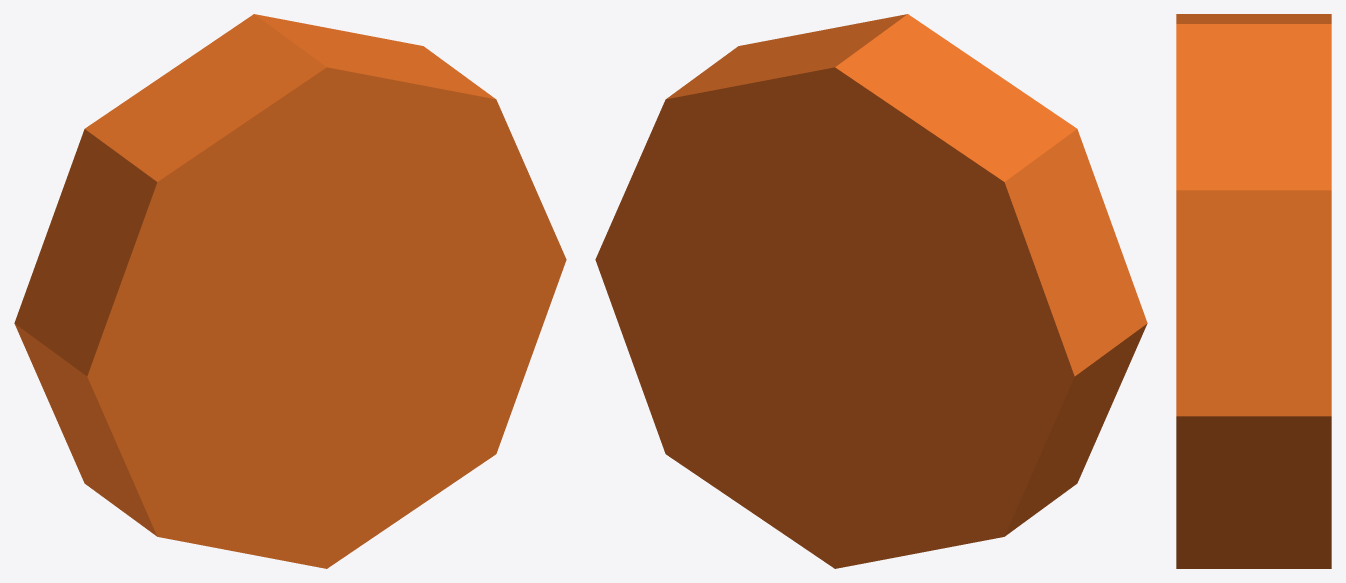
Rendered from Boton02.fbx.
The picture shows the model from 3 angles, left to right: view 1: azimuth 30°, elevation 25°; view 2: azimuth 150°, elevation 25°; view 3: azimuth 270°, elevation 25°; orthographic projection. The views are drawn at different scales.
Parts seen in each view (by area): view 1: Boton02; view 2: Boton02; view 3: Boton02.
Boxes of the visible parts, x1,y1,x2,y2 form: Boton02: (14,14,566,568); Boton02: (595,14,1147,568); Boton02: (1176,14,1331,568).
Size of the model in its own units: 10 by 10 by 2.63.
